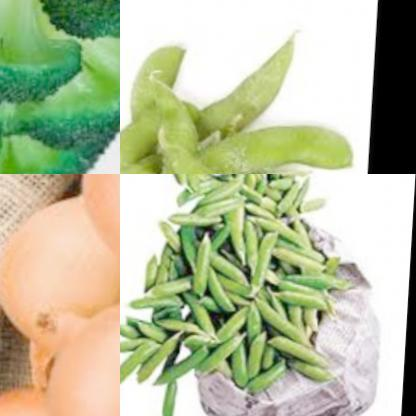beans: (120, 174, 363, 416), (120, 5, 360, 174)
broccoli: (0, 80, 120, 174), (0, 0, 91, 123), (50, 0, 120, 74)
onion: (0, 184, 120, 379), (39, 288, 120, 416), (66, 174, 120, 305)
